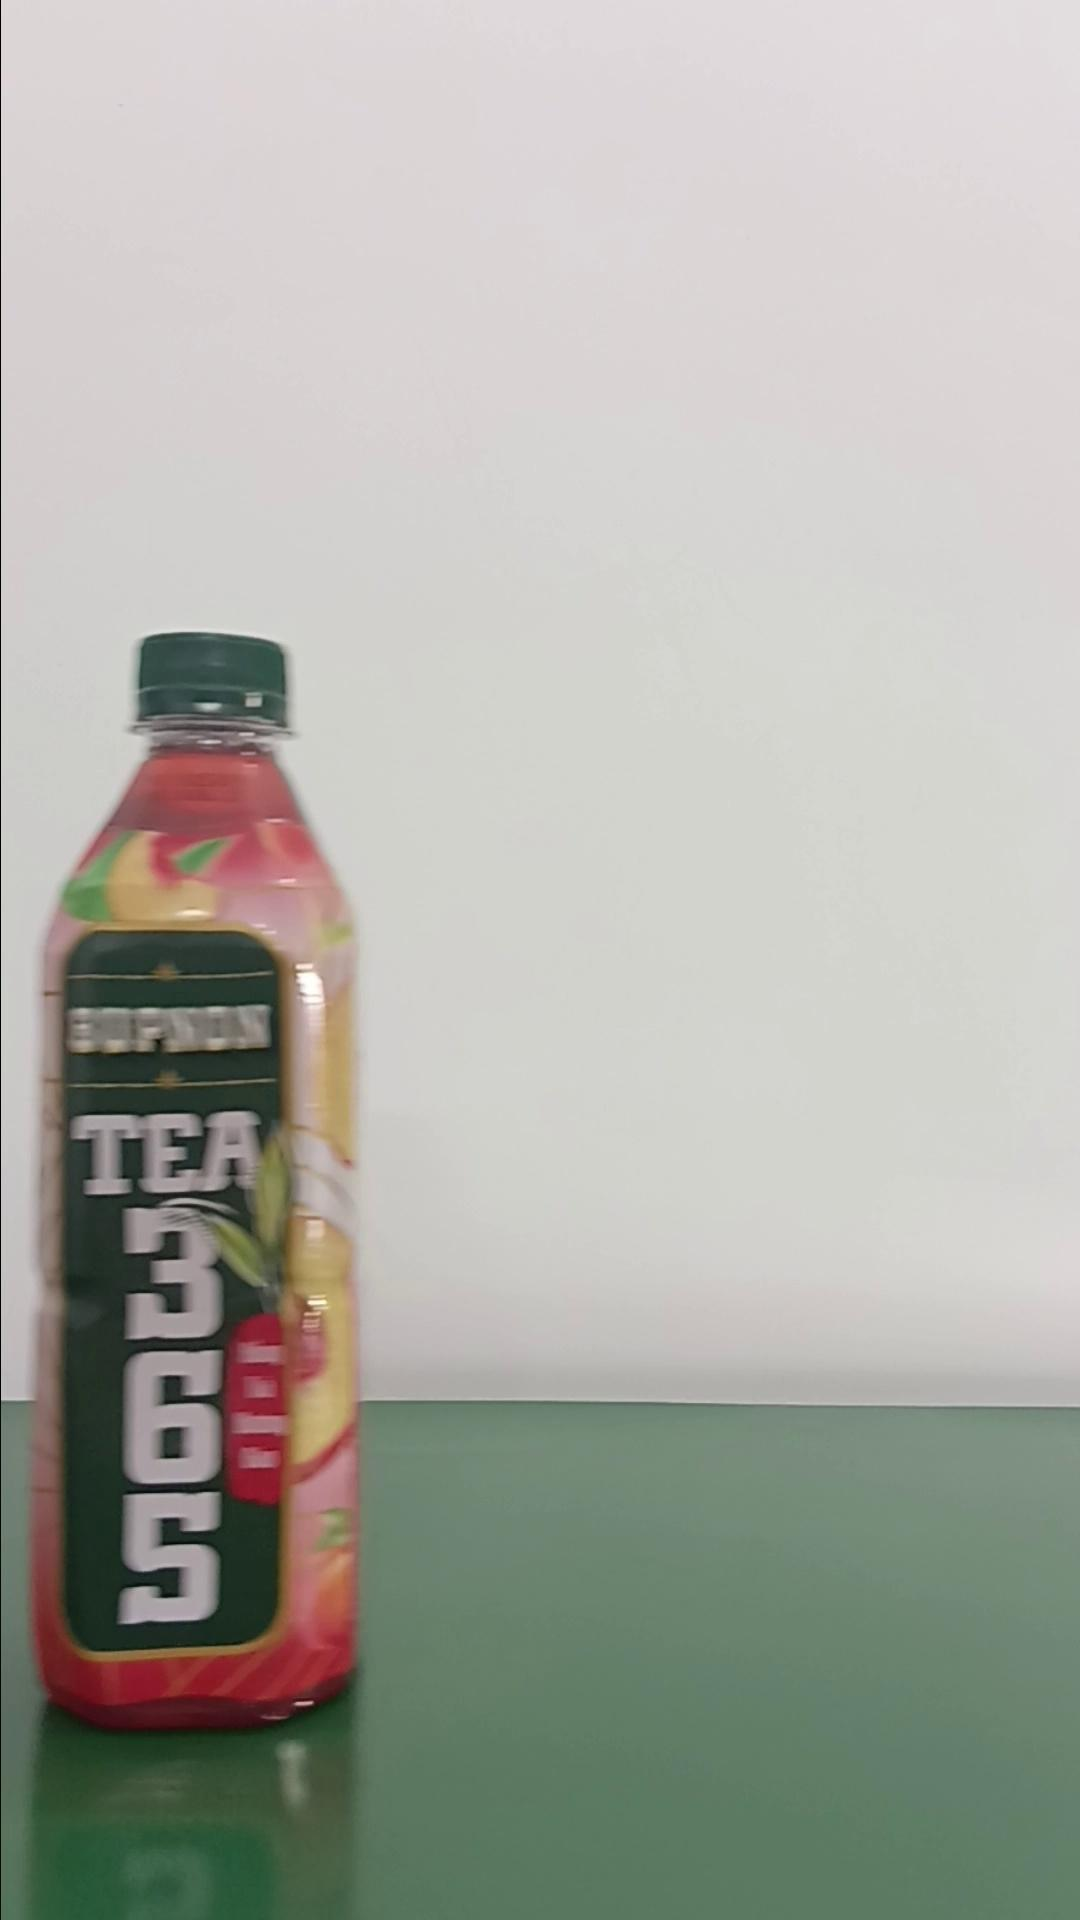khong loi: (29, 628, 365, 1731)
